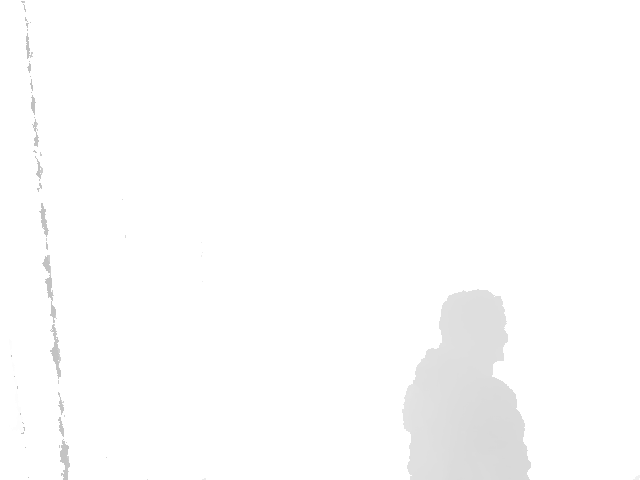head: (439, 290, 508, 369)
person: (402, 290, 532, 480)
